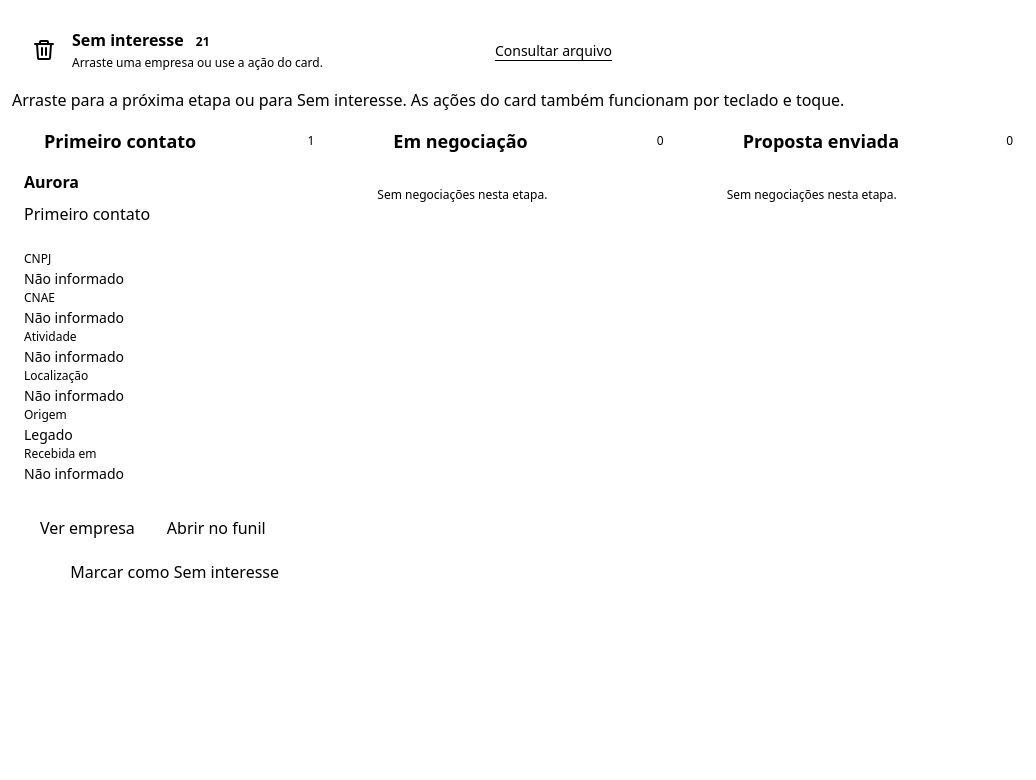
recusa conclusiva libera nova intenção sem manter chave antiga
Click the button "Marcar como Sem interesse": (175, 572) [24,552,325,592]
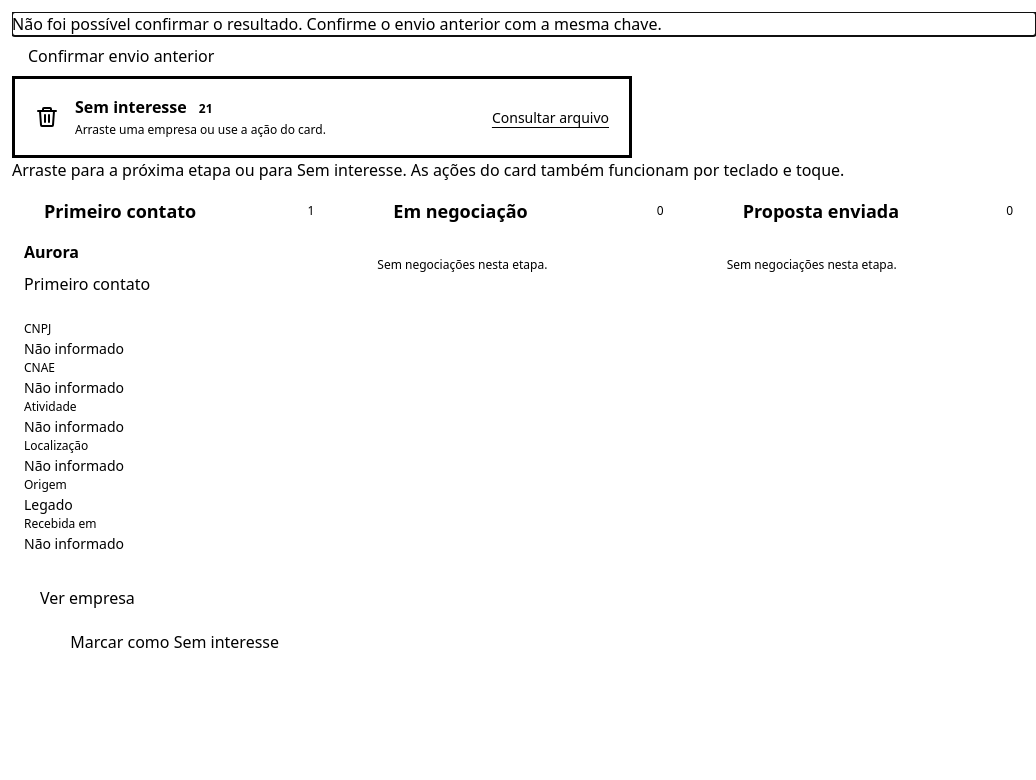
Click the button "Confirmar envio anterior": (121, 56) [12,36,230,76]
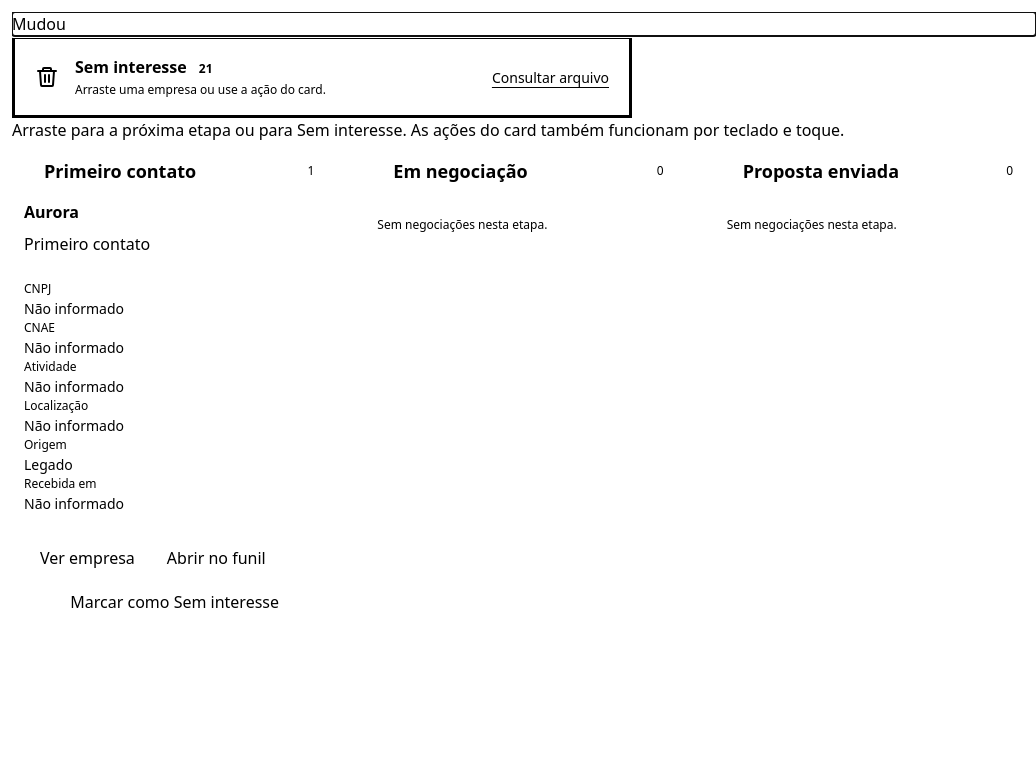
Expected: the element that starts with "Aurora" is shown, [24,200,325,622]
Expected: the text "Confirmar envio anterior" is gone
